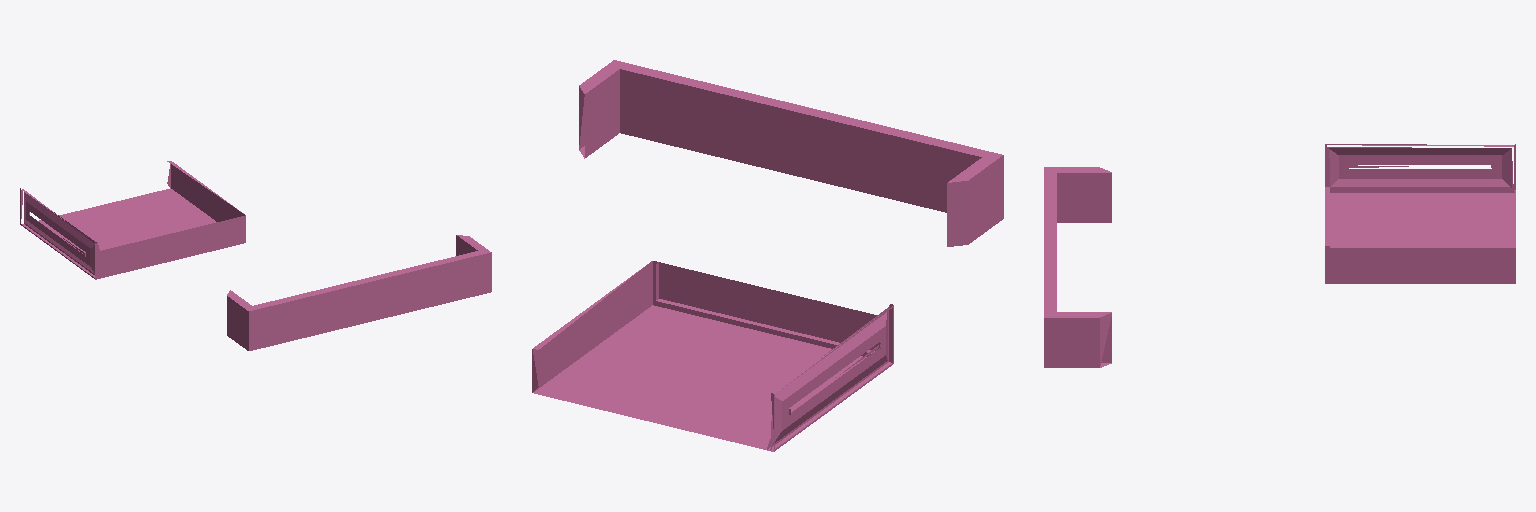
robot.urdf — partnet_1022fe7dd03f6a4d4d5ad9f13ac9f4e7:
<?xml version="1.0" ?>
<robot name="partnet_1022fe7dd03f6a4d4d5ad9f13ac9f4e7">
	<link name="base"/>
	<link name="link_0">
		<visual name="wheel-37">
			<origin xyz="0.04360191614851395 0.724833916148514 0"/>
			<geometry>
				<mesh filename="package://objects_description/chair/textured_objs/original-13.obj"/>
			</geometry>
		</visual>
		<collision>
			<origin xyz="0.04360191614851395 0.724833916148514 0"/>
			<geometry>
				<mesh filename="package://objects_description/chair/textured_objs/original-13.obj"/>
			</geometry>
		</collision>
	</link>
	<joint name="joint_0" type="continuous">
		<origin xyz="-0.0390978563524044 -0.724833916148514 -0.6495312231741888"/>
		<axis xyz="0 0 1"/>
		<child link="link_0"/>
		<parent link="link_7"/>
	</joint>
	<link name="link_1">
		<visual name="wheel-34">
			<origin xyz="0.046534161657978204 0.7272524325666636 -0.23035510488877897"/>
			<geometry>
				<mesh filename="package://objects_description/chair/textured_objs/original-19.obj"/>
			</geometry>
		</visual>
		<collision>
			<origin xyz="0.046534161657978204 0.7272524325666636 -0.23035510488877897"/>
			<geometry>
				<mesh filename="package://objects_description/chair/textured_objs/original-19.obj"/>
			</geometry>
		</collision>
	</link>
	<joint name="joint_1" type="continuous">
		<origin xyz="-0.4978430627864442 -0.7272524325666636 -0.0683813959001704"/>
		<axis xyz="-0.9771112760592786 -0.004842091607417371 -0.21267371334199667"/>
		<child link="link_1"/>
		<parent link="link_8"/>
	</joint>
	<link name="link_2">
		<visual name="wheel-31">
			<origin xyz="-0.11852022364237247 0.7264013031925148 -0.06725044189994248"/>
			<geometry>
				<mesh filename="package://objects_description/chair/textured_objs/original-26.obj"/>
			</geometry>
		</visual>
		<collision>
			<origin xyz="-0.11852022364237247 0.7264013031925148 -0.06725044189994248"/>
			<geometry>
				<mesh filename="package://objects_description/chair/textured_objs/original-26.obj"/>
			</geometry>
		</collision>
	</link>
	<joint name="joint_2" type="continuous">
		<origin xyz="-0.12829550725574373 -0.7264013031925148 0.288311200330267"/>
		<axis xyz="0.5165882667388415 0.00501793457183822 -0.8562192376958092"/>
		<child link="link_2"/>
		<parent link="link_9"/>
	</joint>
	<link name="link_3">
		<visual name="wheel-28">
			<origin xyz="0.05269027778791671 0.7253353560086507 -0.03867597891881288"/>
			<geometry>
				<mesh filename="package://objects_description/chair/textured_objs/original-33.obj"/>
			</geometry>
		</visual>
		<collision>
			<origin xyz="0.05269027778791671 0.7253353560086507 -0.03867597891881288"/>
			<geometry>
				<mesh filename="package://objects_description/chair/textured_objs/original-33.obj"/>
			</geometry>
		</collision>
	</link>
	<joint name="joint_3" type="continuous">
		<origin xyz="0.23178343389538117 -0.7253353560086507 0.24030269556035694"/>
		<axis xyz="-0.6051901235682686 0.0015144433917839023 -0.7960795317031064"/>
		<child link="link_3"/>
		<parent link="link_10"/>
	</joint>
	<link name="link_4">
		<visual name="wheel-25">
			<origin xyz="-0.04142401391888198 0.731950700092448 -0.09979932732698286"/>
			<geometry>
				<mesh filename="package://objects_description/chair/textured_objs/original-40.obj"/>
			</geometry>
		</visual>
		<collision>
			<origin xyz="-0.04142401391888198 0.731950700092448 -0.09979932732698286"/>
			<geometry>
				<mesh filename="package://objects_description/chair/textured_objs/original-40.obj"/>
			</geometry>
		</collision>
	</link>
	<joint name="joint_4" type="continuous">
		<origin xyz="0.46749025903396646 -0.731950700092448 -0.2884544524714958"/>
		<axis xyz="-0.8861740404718192 0.012999757567183728 0.4631701375272859"/>
		<child link="link_4"/>
		<parent link="link_11"/>
	</joint>
	<link name="link_5">
		<visual name="arm_holistic_frame-45">
			<origin xyz="0.0045041713144999915 0 -0.1779066497186364"/>
			<geometry>
				<mesh filename="package://objects_description/chair/textured_objs/new-8.obj"/>
			</geometry>
		</visual>
		<visual name="back_soft_surface-50">
			<origin xyz="0.0045041713144999915 0 -0.1779066497186364"/>
			<geometry>
				<mesh filename="package://objects_description/chair/textured_objs/original-9.obj"/>
			</geometry>
		</visual>
		<visual name="back_connector-49">
			<origin xyz="0.0045041713144999915 0 -0.1779066497186364"/>
			<geometry>
				<mesh filename="package://objects_description/chair/textured_objs/new-4.obj"/>
			</geometry>
		</visual>
		<visual name="back_connector-49">
			<origin xyz="0.0045041713144999915 0 -0.1779066497186364"/>
			<geometry>
				<mesh filename="package://objects_description/chair/textured_objs/new-2.obj"/>
			</geometry>
		</visual>
		<visual name="arm_holistic_frame-46">
			<origin xyz="0.0045041713144999915 0 -0.1779066497186364"/>
			<geometry>
				<mesh filename="package://objects_description/chair/textured_objs/new-7.obj"/>
			</geometry>
		</visual>
		<visual name="arm_connector-47">
			<origin xyz="0.0045041713144999915 0 -0.1779066497186364"/>
			<geometry>
				<mesh filename="package://objects_description/chair/textured_objs/new-6.obj"/>
			</geometry>
		</visual>
		<visual name="seat_soft_surface-44">
			<origin xyz="0.0045041713144999915 0 -0.1779066497186364"/>
			<geometry>
				<mesh filename="package://objects_description/chair/textured_objs/original-8.obj"/>
			</geometry>
		</visual>
		<visual name="seat_support-42">
			<origin xyz="0.0045041713144999915 0 -0.1779066497186364"/>
			<geometry>
				<mesh filename="package://objects_description/chair/textured_objs/new-5.obj"/>
			</geometry>
		</visual>
		<visual name="central_support-7">
			<origin xyz="0.0045041713144999915 0 -0.1779066497186364"/>
			<geometry>
				<mesh filename="package://objects_description/chair/textured_objs/original-11.obj"/>
			</geometry>
		</visual>
		<visual name="central_support-7">
			<origin xyz="0.0045041713144999915 0 -0.1779066497186364"/>
			<geometry>
				<mesh filename="package://objects_description/chair/textured_objs/original-6.obj"/>
			</geometry>
		</visual>
		<collision>
			<origin xyz="0.0045041713144999915 0 -0.1779066497186364"/>
			<geometry>
				<mesh filename="package://objects_description/chair/textured_objs/new-8.obj"/>
			</geometry>
		</collision>
		<collision>
			<origin xyz="0.0045041713144999915 0 -0.1779066497186364"/>
			<geometry>
				<mesh filename="package://objects_description/chair/textured_objs/original-9.obj"/>
			</geometry>
		</collision>
		<collision>
			<origin xyz="0.0045041713144999915 0 -0.1779066497186364"/>
			<geometry>
				<mesh filename="package://objects_description/chair/textured_objs/new-4.obj"/>
			</geometry>
		</collision>
		<collision>
			<origin xyz="0.0045041713144999915 0 -0.1779066497186364"/>
			<geometry>
				<mesh filename="package://objects_description/chair/textured_objs/new-2.obj"/>
			</geometry>
		</collision>
		<collision>
			<origin xyz="0.0045041713144999915 0 -0.1779066497186364"/>
			<geometry>
				<mesh filename="package://objects_description/chair/textured_objs/new-7.obj"/>
			</geometry>
		</collision>
		<collision>
			<origin xyz="0.0045041713144999915 0 -0.1779066497186364"/>
			<geometry>
				<mesh filename="package://objects_description/chair/textured_objs/new-6.obj"/>
			</geometry>
		</collision>
		<collision>
			<origin xyz="0.0045041713144999915 0 -0.1779066497186364"/>
			<geometry>
				<mesh filename="package://objects_description/chair/textured_objs/original-8.obj"/>
			</geometry>
		</collision>
		<collision>
			<origin xyz="0.0045041713144999915 0 -0.1779066497186364"/>
			<geometry>
				<mesh filename="package://objects_description/chair/textured_objs/new-5.obj"/>
			</geometry>
		</collision>
		<collision>
			<origin xyz="0.0045041713144999915 0 -0.1779066497186364"/>
			<geometry>
				<mesh filename="package://objects_description/chair/textured_objs/original-11.obj"/>
			</geometry>
		</collision>
		<collision>
			<origin xyz="0.0045041713144999915 0 -0.1779066497186364"/>
			<geometry>
				<mesh filename="package://objects_description/chair/textured_objs/original-6.obj"/>
			</geometry>
		</collision>
	</link>
	<joint name="joint_5" type="continuous">
		<origin xyz="0.0 0 0.0"/>
		<axis xyz="0 -1 0"/>
		<child link="link_5"/>
		<parent link="link_5_helper"/>
	</joint>
	<link name="link_6">
		<visual name="leg-9">
			<origin xyz="0 0 0"/>
			<geometry>
				<mesh filename="package://objects_description/chair/textured_objs/original-10.obj"/>
			</geometry>
		</visual>
		<visual name="leg-10">
			<origin xyz="0 0 0"/>
			<geometry>
				<mesh filename="package://objects_description/chair/textured_objs/original-24.obj"/>
			</geometry>
		</visual>
		<visual name="leg-11">
			<origin xyz="0 0 0"/>
			<geometry>
				<mesh filename="package://objects_description/chair/textured_objs/original-31.obj"/>
			</geometry>
		</visual>
		<visual name="leg-12">
			<origin xyz="0 0 0"/>
			<geometry>
				<mesh filename="package://objects_description/chair/textured_objs/original-38.obj"/>
			</geometry>
		</visual>
		<visual name="leg-13">
			<origin xyz="0 0 0"/>
			<geometry>
				<mesh filename="package://objects_description/chair/textured_objs/original-45.obj"/>
			</geometry>
		</visual>
		<collision>
			<origin xyz="0 0 0"/>
			<geometry>
				<mesh filename="package://objects_description/chair/textured_objs/original-10.obj"/>
			</geometry>
		</collision>
		<collision>
			<origin xyz="0 0 0"/>
			<geometry>
				<mesh filename="package://objects_description/chair/textured_objs/original-24.obj"/>
			</geometry>
		</collision>
		<collision>
			<origin xyz="0 0 0"/>
			<geometry>
				<mesh filename="package://objects_description/chair/textured_objs/original-31.obj"/>
			</geometry>
		</collision>
		<collision>
			<origin xyz="0 0 0"/>
			<geometry>
				<mesh filename="package://objects_description/chair/textured_objs/original-38.obj"/>
			</geometry>
		</collision>
		<collision>
			<origin xyz="0 0 0"/>
			<geometry>
				<mesh filename="package://objects_description/chair/textured_objs/original-45.obj"/>
			</geometry>
		</collision>
	</link>
	<joint name="joint_6" type="fixed">
		<origin rpy="1.570796326794897 0 -1.570796326794897" xyz="0 0 0"/>
		<child link="link_6"/>
		<parent link="base"/>
	</joint>
	<link name="link_7">
		<visual name="caster_yoke-35">
			<origin xyz="0.004504059796109554 0 -0.6495312231741888"/>
			<geometry>
				<mesh filename="package://objects_description/chair/textured_objs/original-15.obj"/>
			</geometry>
		</visual>
		<visual name="caster_stem-36">
			<origin xyz="0.004504059796109554 0 -0.6495312231741888"/>
			<geometry>
				<mesh filename="package://objects_description/chair/textured_objs/original-14.obj"/>
			</geometry>
		</visual>
		<collision>
			<origin xyz="0.004504059796109554 0 -0.6495312231741888"/>
			<geometry>
				<mesh filename="package://objects_description/chair/textured_objs/original-15.obj"/>
			</geometry>
		</collision>
		<collision>
			<origin xyz="0.004504059796109554 0 -0.6495312231741888"/>
			<geometry>
				<mesh filename="package://objects_description/chair/textured_objs/original-14.obj"/>
			</geometry>
		</collision>
	</link>
	<joint name="joint_7" type="continuous">
		<origin xyz="-0.004504059796109554 0 0.6495312231741888"/>
		<axis xyz="0 1 0"/>
		<child link="link_7"/>
		<parent link="link_6"/>
	</joint>
	<link name="link_8">
		<visual name="caster_yoke-32">
			<origin xyz="-0.451308901128466 0 -0.29873650078894937"/>
			<geometry>
				<mesh filename="package://objects_description/chair/textured_objs/original-21.obj"/>
			</geometry>
		</visual>
		<visual name="caster_stem-33">
			<origin xyz="-0.451308901128466 0 -0.29873650078894937"/>
			<geometry>
				<mesh filename="package://objects_description/chair/textured_objs/original-20.obj"/>
			</geometry>
		</visual>
		<collision>
			<origin xyz="-0.451308901128466 0 -0.29873650078894937"/>
			<geometry>
				<mesh filename="package://objects_description/chair/textured_objs/original-21.obj"/>
			</geometry>
		</collision>
		<collision>
			<origin xyz="-0.451308901128466 0 -0.29873650078894937"/>
			<geometry>
				<mesh filename="package://objects_description/chair/textured_objs/original-20.obj"/>
			</geometry>
		</collision>
	</link>
	<joint name="joint_8" type="continuous">
		<origin xyz="0.451308901128466 0 0.29873650078894937"/>
		<axis xyz="0 1 0"/>
		<child link="link_8"/>
		<parent link="link_6"/>
	</joint>
	<link name="link_9">
		<visual name="caster_yoke-29">
			<origin xyz="-0.2468157308981162 0 0.22106075843032452"/>
			<geometry>
				<mesh filename="package://objects_description/chair/textured_objs/original-28.obj"/>
			</geometry>
		</visual>
		<visual name="caster_stem-30">
			<origin xyz="-0.2468157308981162 0 0.22106075843032452"/>
			<geometry>
				<mesh filename="package://objects_description/chair/textured_objs/original-27.obj"/>
			</geometry>
		</visual>
		<collision>
			<origin xyz="-0.2468157308981162 0 0.22106075843032452"/>
			<geometry>
				<mesh filename="package://objects_description/chair/textured_objs/original-28.obj"/>
			</geometry>
		</collision>
		<collision>
			<origin xyz="-0.2468157308981162 0 0.22106075843032452"/>
			<geometry>
				<mesh filename="package://objects_description/chair/textured_objs/original-27.obj"/>
			</geometry>
		</collision>
	</link>
	<joint name="joint_9" type="continuous">
		<origin xyz="0.2468157308981162 0 -0.22106075843032452"/>
		<axis xyz="0 1 0"/>
		<child link="link_9"/>
		<parent link="link_6"/>
	</joint>
	<link name="link_10">
		<visual name="caster_yoke-26">
			<origin xyz="0.2844737116832979 0 0.20162671664154405"/>
			<geometry>
				<mesh filename="package://objects_description/chair/textured_objs/original-35.obj"/>
			</geometry>
		</visual>
		<visual name="caster_stem-27">
			<origin xyz="0.2844737116832979 0 0.20162671664154405"/>
			<geometry>
				<mesh filename="package://objects_description/chair/textured_objs/original-34.obj"/>
			</geometry>
		</visual>
		<collision>
			<origin xyz="0.2844737116832979 0 0.20162671664154405"/>
			<geometry>
				<mesh filename="package://objects_description/chair/textured_objs/original-35.obj"/>
			</geometry>
		</collision>
		<collision>
			<origin xyz="0.2844737116832979 0 0.20162671664154405"/>
			<geometry>
				<mesh filename="package://objects_description/chair/textured_objs/original-34.obj"/>
			</geometry>
		</collision>
	</link>
	<joint name="joint_10" type="continuous">
		<origin xyz="-0.2844737116832979 0 -0.20162671664154405"/>
		<axis xyz="0 1 0"/>
		<child link="link_10"/>
		<parent link="link_6"/>
	</joint>
	<link name="link_11">
		<visual name="caster_yoke-23">
			<origin xyz="0.42606624511508445 0 -0.3882537797984787"/>
			<geometry>
				<mesh filename="package://objects_description/chair/textured_objs/original-42.obj"/>
			</geometry>
		</visual>
		<visual name="caster_stem-24">
			<origin xyz="0.42606624511508445 0 -0.3882537797984787"/>
			<geometry>
				<mesh filename="package://objects_description/chair/textured_objs/original-41.obj"/>
			</geometry>
		</visual>
		<collision>
			<origin xyz="0.42606624511508445 0 -0.3882537797984787"/>
			<geometry>
				<mesh filename="package://objects_description/chair/textured_objs/original-42.obj"/>
			</geometry>
		</collision>
		<collision>
			<origin xyz="0.42606624511508445 0 -0.3882537797984787"/>
			<geometry>
				<mesh filename="package://objects_description/chair/textured_objs/original-41.obj"/>
			</geometry>
		</collision>
	</link>
	<joint name="joint_11" type="continuous">
		<origin xyz="-0.42606624511508445 0 0.3882537797984787"/>
		<axis xyz="0 1 0"/>
		<child link="link_11"/>
		<parent link="link_6"/>
	</joint>
	<link name="link_5_helper"/>
	<joint name="joint_12" type="prismatic">
		<origin xyz="-0.0045041713144999915 0 0.1779066497186364"/>
		<axis xyz="0 -1 0"/>
		<child link="link_5_helper"/>
		<parent link="link_6"/>
		<limit lower="0" upper="0.1"/>
	</joint>
</robot>

--- What the picture shows (computed from the rendered views, not written in the file) ---
3 views of the same robot in one strip: view 1: azimuth 30°, elevation 25°; view 2: azimuth 150°, elevation 25°; view 3: azimuth 270°, elevation 25° (orthographic).
Robot: partnet_1022fe7dd03f6a4d4d5ad9f13ac9f4e7 — 14 links, 13 joints (11 continuous, 1 prismatic, 1 fixed); root link base; default pose: all joints at 0.
Visible links, largest first — view 1: link_5; view 2: link_5; view 3: link_5.
Boxes of the visible links, x1,y1,x2,y2 form: link_5: [20, 161, 491, 350]; link_5: [532, 60, 1003, 451]; link_5: [1044, 144, 1515, 367].
Size in the robot's own frame: 0.9075 by 1.02 by 0.1212 metres.
Meshes: 30 distinct files referenced, 5 mesh visuals loaded (5 OBJ); not drawn: 25 (reference not matched to a file when rendering).